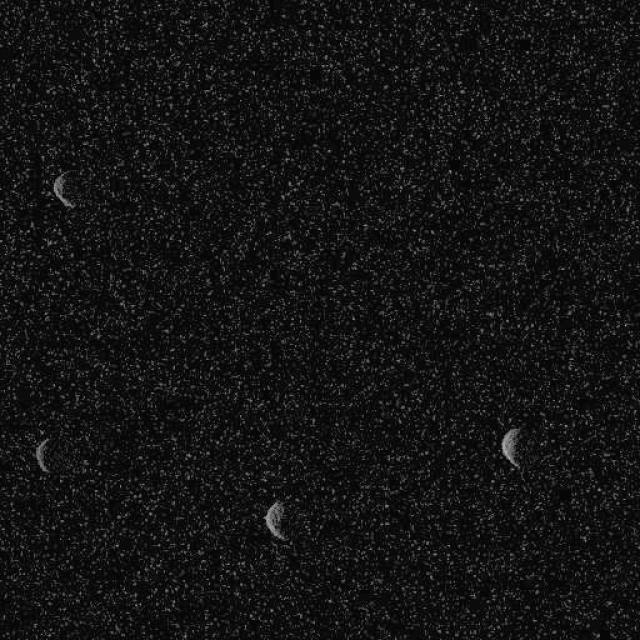D2: (262, 499, 288, 541), (500, 425, 522, 470), (52, 170, 76, 209), (34, 436, 51, 474)
